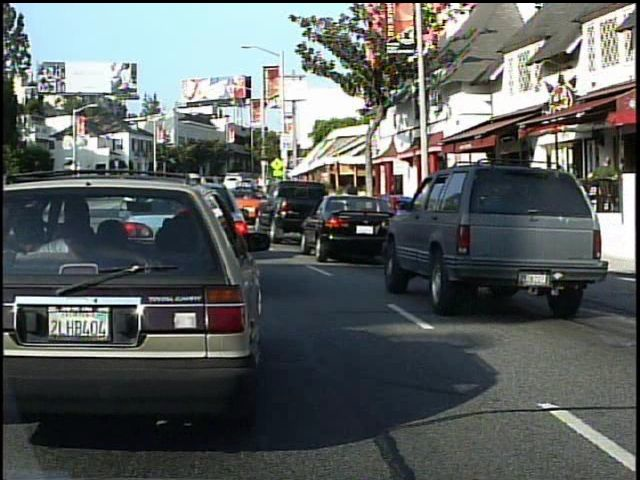person: (588, 151, 622, 236)
